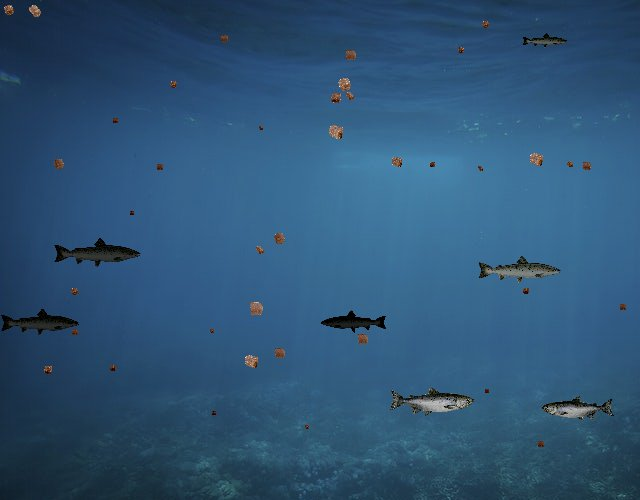Fish: (53, 236, 143, 269), (476, 254, 562, 285), (388, 386, 474, 417), (0, 308, 79, 337), (542, 395, 615, 422), (320, 309, 388, 334), (521, 32, 568, 49)
Pellet: (0, 0, 20, 21), (577, 157, 596, 176), (340, 86, 359, 105), (426, 158, 439, 171), (109, 115, 121, 127), (206, 326, 216, 336)
